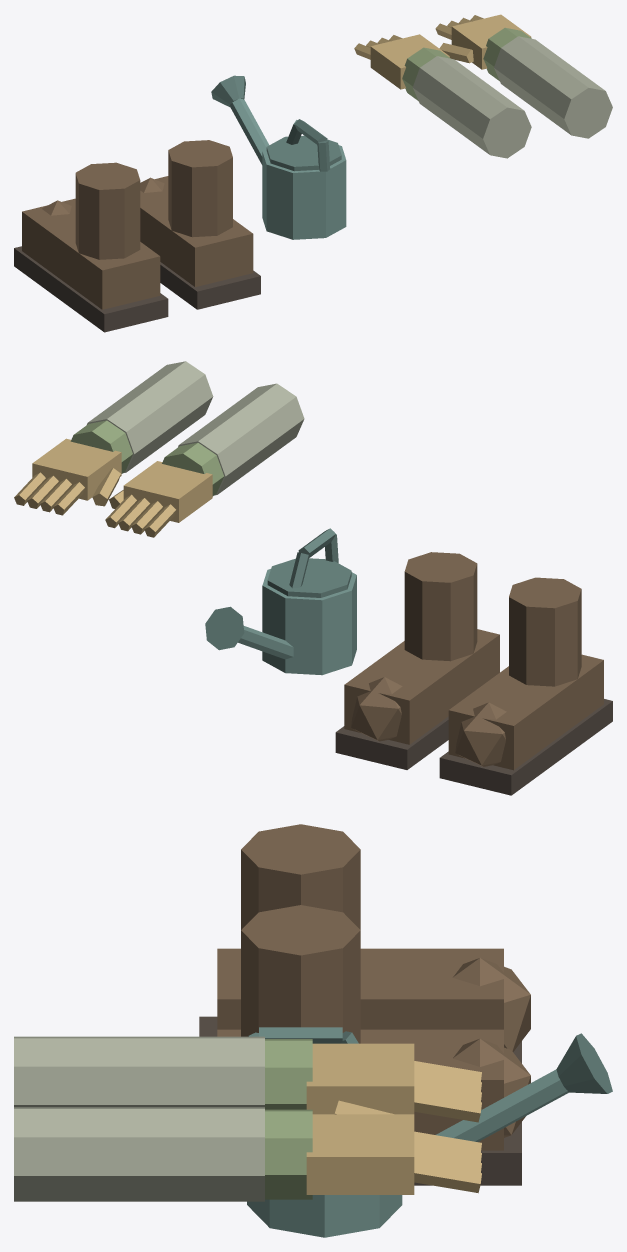
Rendered from player.glb.
3 views of the same model, one above another, from view 1: azimuth 30°, elevation 25°; view 2: azimuth 150°, elevation 25°; view 3: azimuth 270°, elevation 25° (orthographic). The views are drawn at different scales.
Visible parts, largest first — view 1: boot_L, boot_R, can, hand_R, hand_L; view 2: boot_L, boot_R, hand_R, hand_L, can; view 3: hand_R, hand_L, boot_L, boot_R, can.
Part boxes in pixels (<box>): boot_L: <box>14,162,168,332</box>; boot_R: <box>140,140,260,309</box>; can: <box>211,75,346,239</box>; hand_R: <box>435,14,612,138</box>; hand_L: <box>354,34,531,158</box>; boot_L: <box>439,577,612,795</box>; boot_R: <box>335,552,499,769</box>; hand_R: <box>14,361,213,515</box>; hand_L: <box>105,383,304,537</box>; can: <box>205,528,356,675</box>; hand_R: <box>14,1107,481,1201</box>; hand_L: <box>14,1036,481,1122</box>; boot_L: <box>199,824,530,1063</box>; boot_R: <box>217,905,530,1185</box>; can: <box>247,1027,612,1237</box>.
Size of the model in its own units: 0.7875 by 0.292 by 0.5012.
